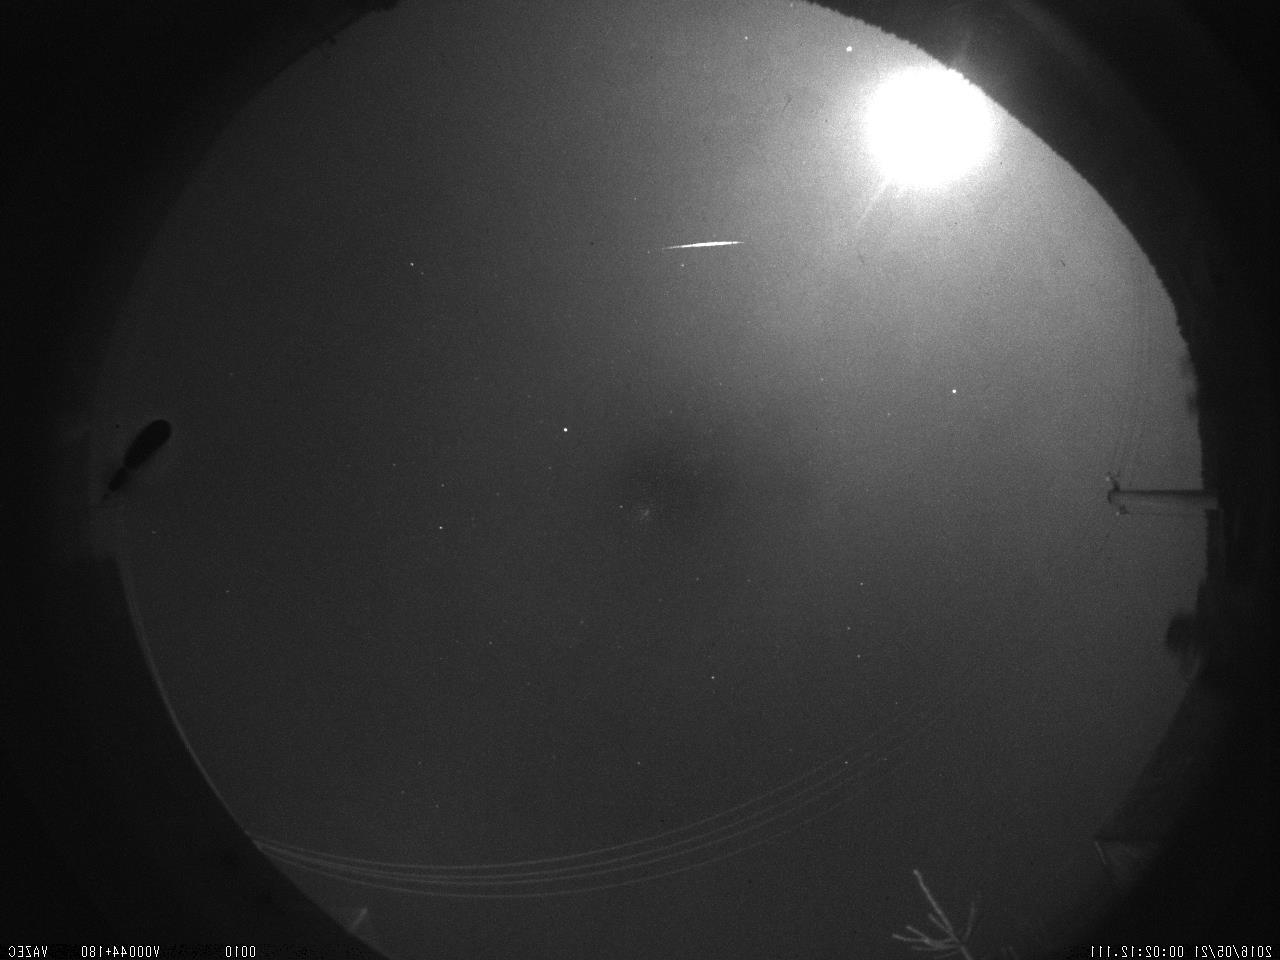meteor: (648, 218, 761, 277)
